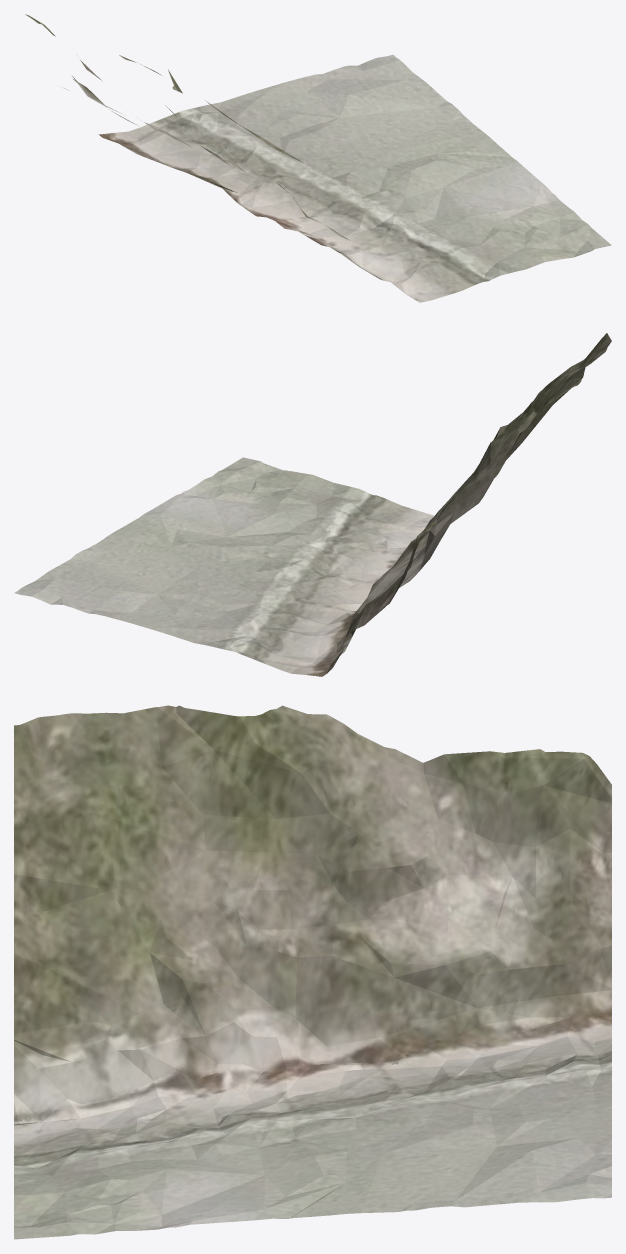
3 renders of one model, top to bottom at view 1: azimuth 30°, elevation 25°; view 2: azimuth 150°, elevation 25°; view 3: azimuth 270°, elevation 25°, orthographic. The views are drawn at different scales.
Bounding box in the file's own units: 2.95 × 1.61 × 2.95.
3 materials, 3 textured.
